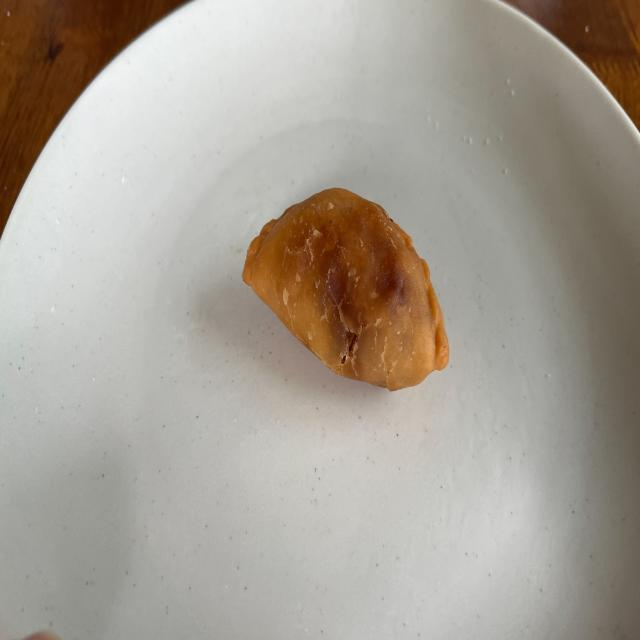karipap: (242, 189, 449, 391)
